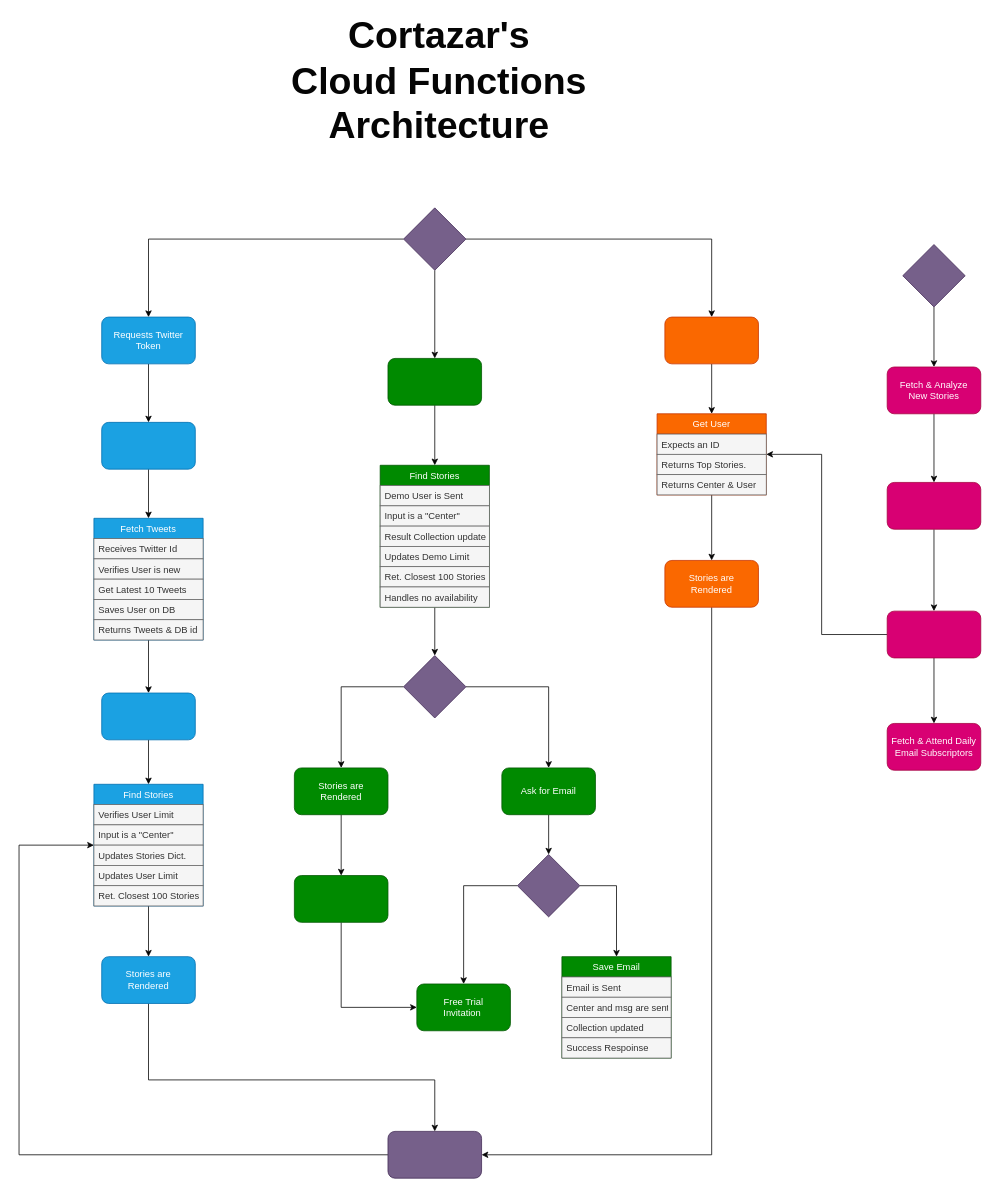
This 994x1192 diagram has some shape labels left out. The centre of each missing label's shape, as x and y in pixels:
"Attempts New Search" belongs at [341,898].
"Daily Scripts" belongs at [933,275].
"Email shared?" belongs at [548,885].
"Fetch & Analyze User Tweets" belongs at [933,505].
"Grants Twitter Authorization" belongs at [148,445].
"Has LocalStorage Id?" belongs at [434,238].
"New User Search" belongs at [434,1154].
"Requests DB User Record" belongs at [711,340].
"Returned Stories?" belongs at [434,686].
"Tries Demo" belongs at [434,381].
"Tweets are Analyzed" belongs at [148,716].
"Update User Stories, Free Trials & Limits" belongs at [933,634].
